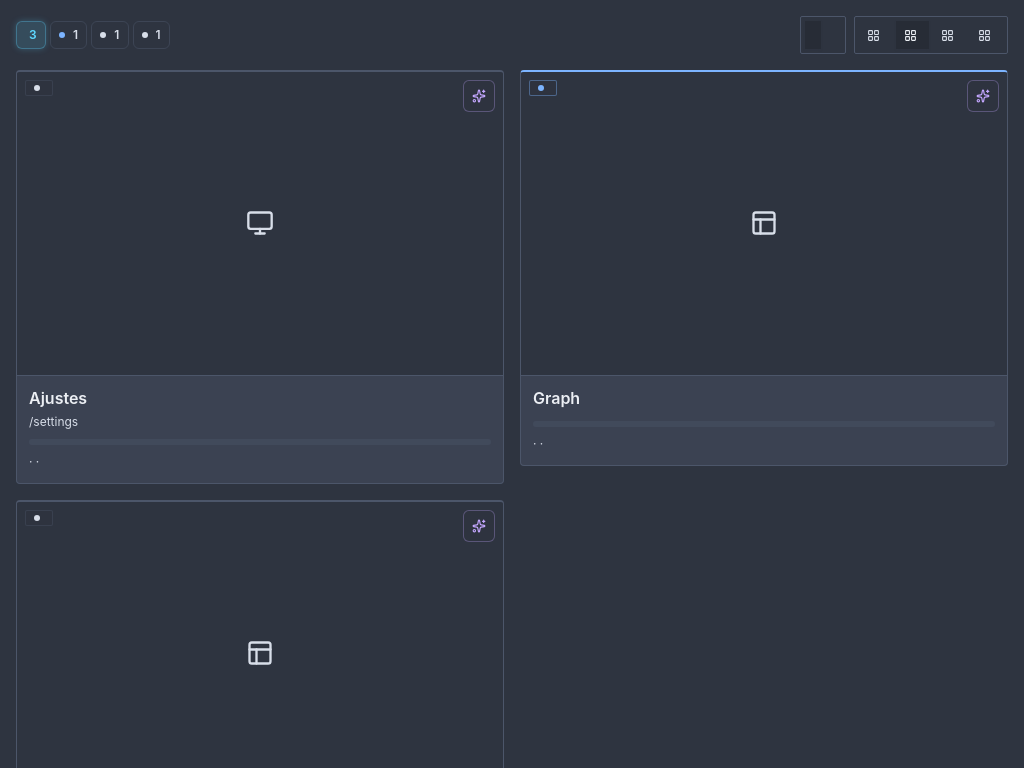
Test case: ScreenCatalog › en Mínimo no hay barra ni estadísticas
Expected: the button with test id "screen-card-route:/settings" is shown, x1=16 y1=70 x2=504 y2=484
Expected: the 2nd text with test id "screen-file-counts" is shown, x1=29 y1=454 x2=39 y2=468
Note: Cambiar a Mínimo
Click the button with test id "card-size-minimal" at (986, 35), box x1=970 y1=21 x2=1003 y2=49
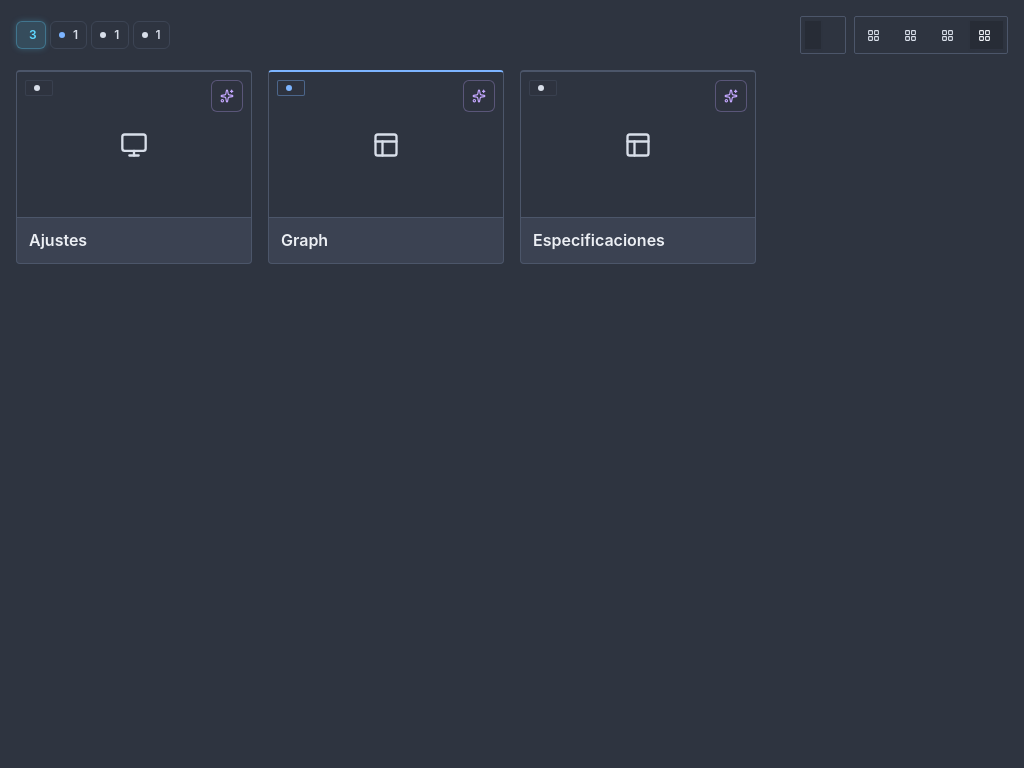
Expected: the element with test id "screen-composition-bar" is gone
